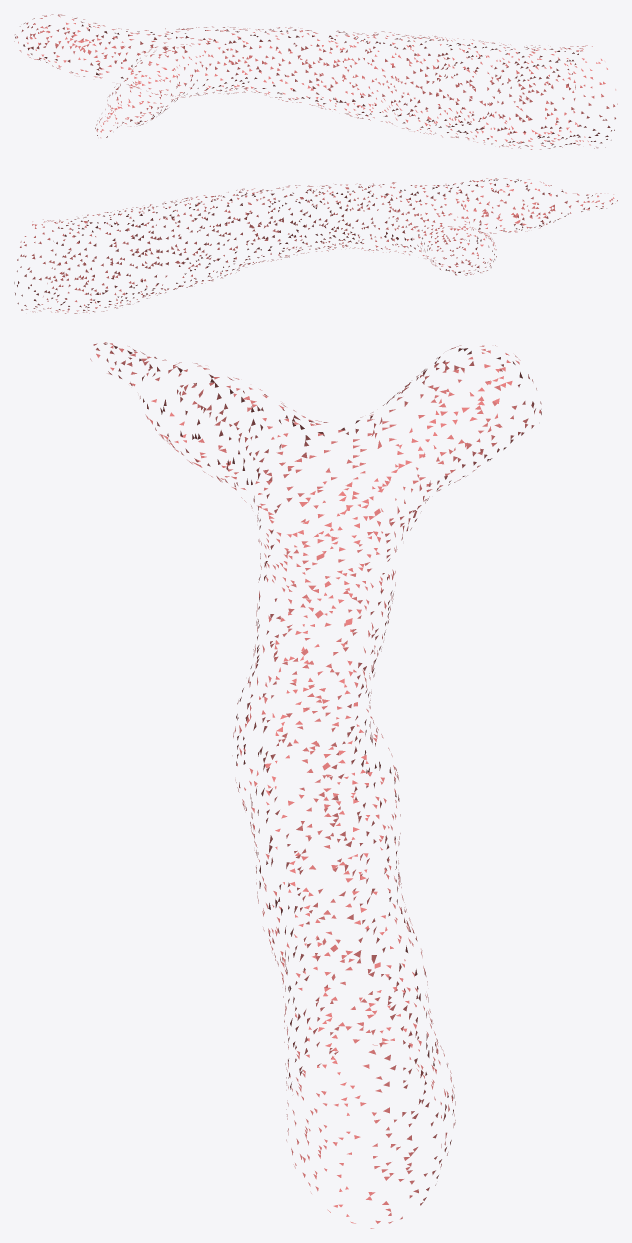
Rendered from morph_000.glb.
3 views of the same model, one above another, from view 1: azimuth 30°, elevation 25°; view 2: azimuth 150°, elevation 25°; view 3: azimuth 270°, elevation 25° (orthographic). The views are drawn at different scales.
Size of the model in its own units: 123 by 47.8 by 46.34.
